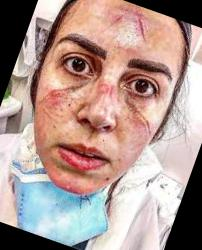mask_weared_incorrect: (8, 18, 184, 222)
